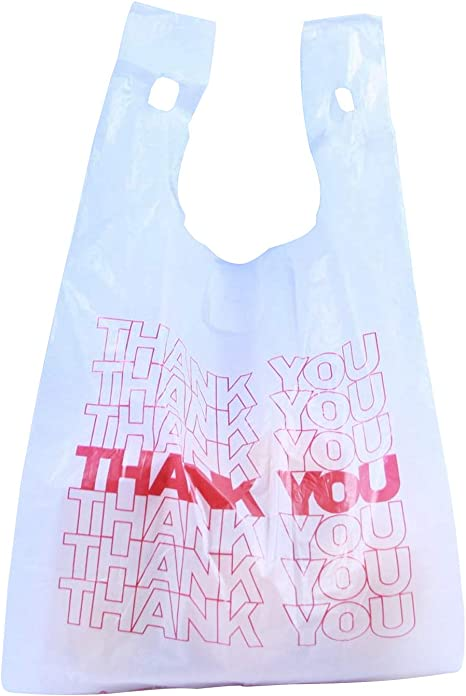PlasticBag: (20, 9, 465, 690)
